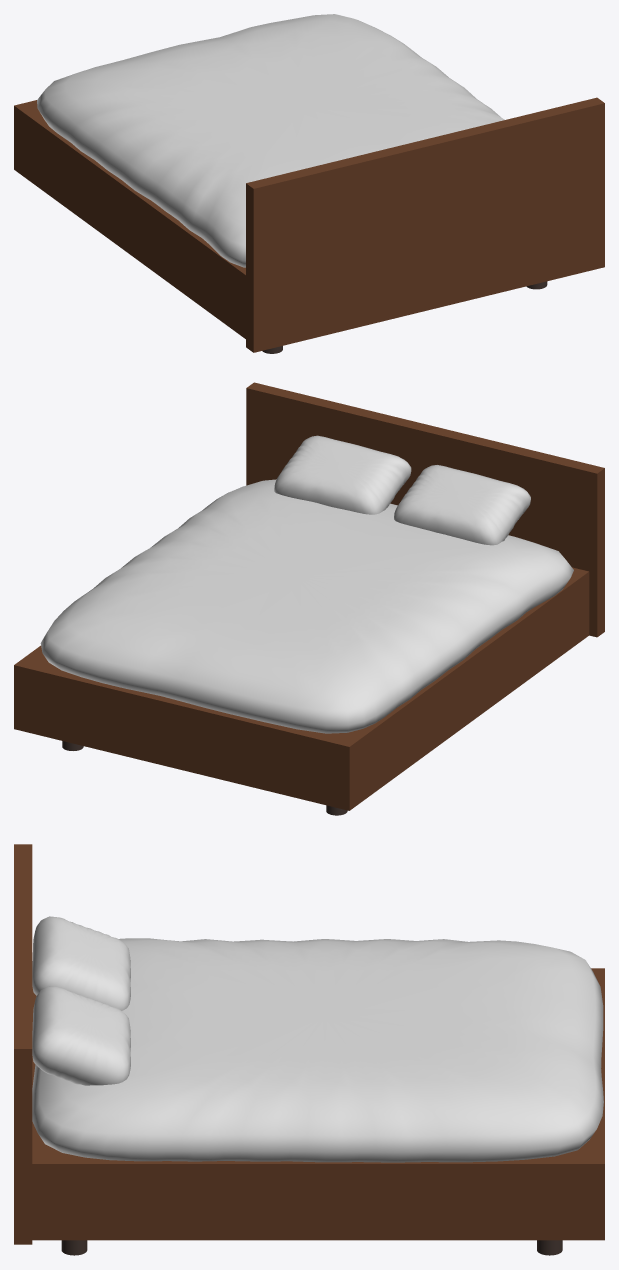
The model's file is Lit2_4.fbx.
The picture shows the model from 3 angles, top to bottom: view 1: azimuth 30°, elevation 25°; view 2: azimuth 150°, elevation 25°; view 3: azimuth 270°, elevation 25°; orthographic projection. The views are drawn at different scales.
Parts seen in each view (by area): view 1: pCube2137, pCylinder1514, pCube2136; view 2: pCylinder1514, pCube2136, pCube2137, pCylinder1518, pCylinder1513; view 3: pCylinder1514, pCube2136, pCylinder1513, pCube2137, pCylinder1518, pCylinder1515.
Boxes of the visible parts, box(x1,y1,x2,y2) form: pCube2137: box(246, 97, 604, 352); pCylinder1514: box(37, 14, 504, 267); pCube2136: box(14, 100, 245, 338); pCylinder1514: box(40, 479, 573, 733); pCube2136: box(14, 567, 589, 810); pCube2137: box(246, 382, 604, 637); pCylinder1518: box(394, 465, 530, 545); pCylinder1513: box(274, 435, 411, 514); pCylinder1514: box(32, 938, 603, 1162); pCube2136: box(32, 968, 604, 1240); pCylinder1513: box(32, 986, 130, 1085); pCube2137: box(14, 844, 32, 1244); pCylinder1518: box(32, 916, 130, 1010); pCylinder1515: box(61, 1240, 562, 1255).
Size of the model in its own units: 117 by 60.53 by 143.
